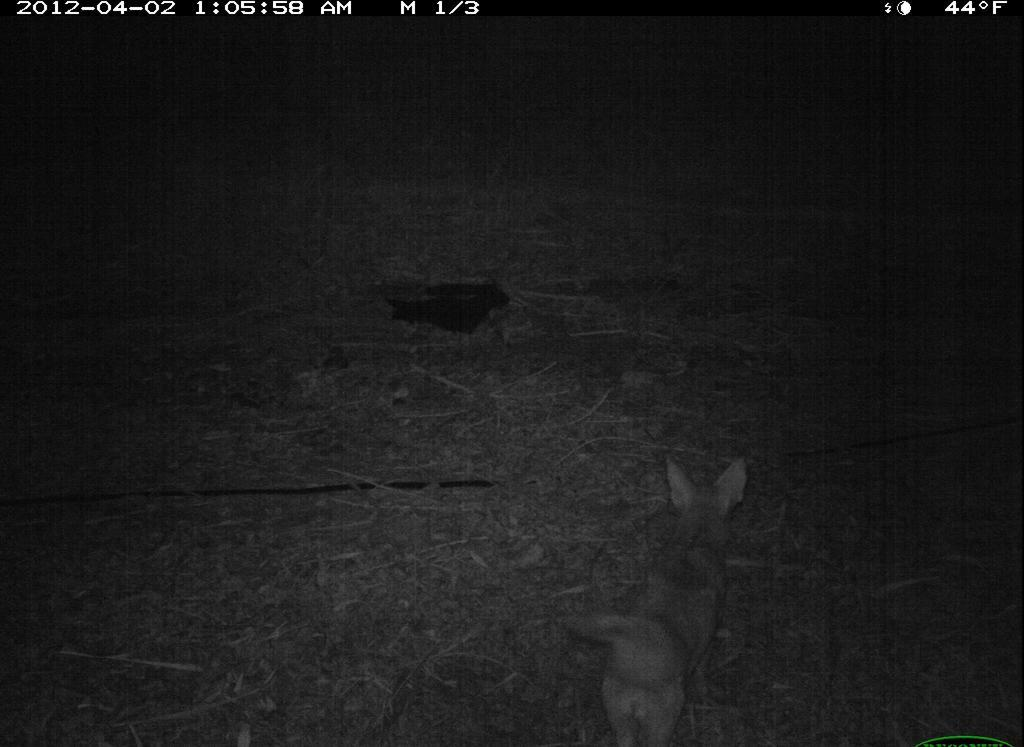coyote: (552, 418, 766, 734)
